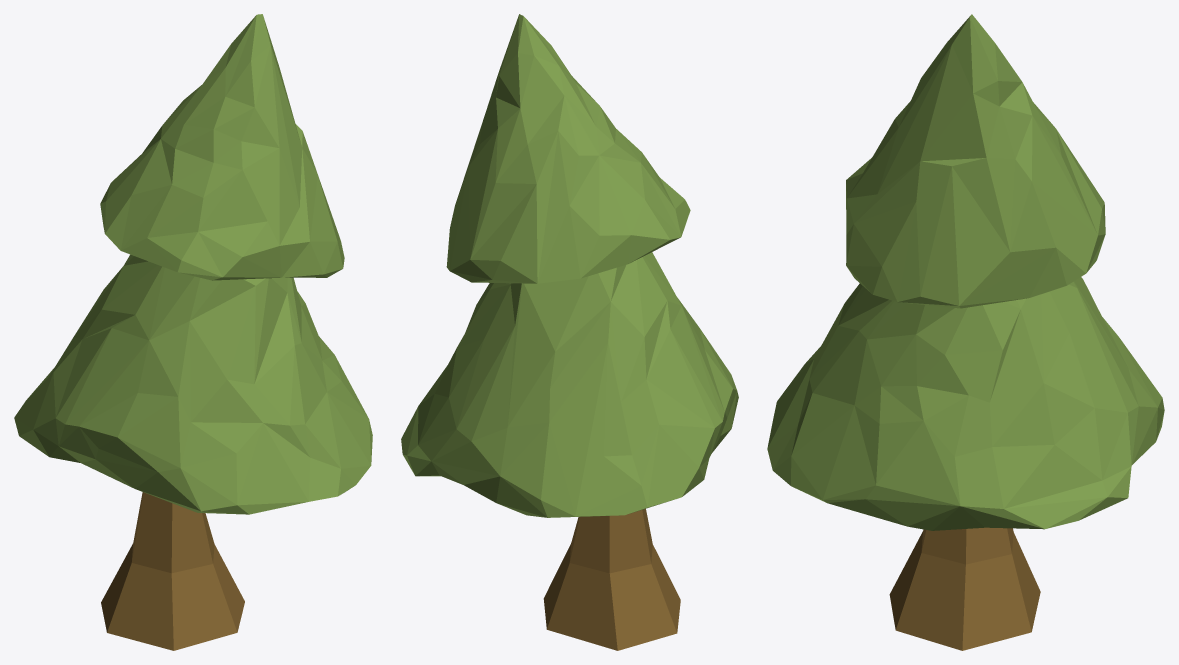
Rendered from small tree.fbx.
3 renders of one model, left to right at view 1: azimuth 30°, elevation 25°; view 2: azimuth 150°, elevation 25°; view 3: azimuth 270°, elevation 25°, orthographic. The views are drawn at different scales.
Parts seen in each view (by area): view 1: pasted__pCylinder3, pCylinder1; view 2: pasted__pCylinder3, pCylinder1; view 3: pasted__pCylinder3, pCylinder1.
Part boxes in pixels (x1=…): pasted__pCylinder3: x1=14, y1=14, x2=372, y2=514; pCylinder1: x1=101, y1=492, x2=244, y2=650; pasted__pCylinder3: x1=401, y1=14, x2=738, y2=517; pCylinder1: x1=543, y1=508, x2=680, y2=650; pasted__pCylinder3: x1=767, y1=14, x2=1164, y2=530; pCylinder1: x1=889, y1=527, x2=1040, y2=650.
Size of the model in its own units: 1.88 by 3.56 by 1.99.
